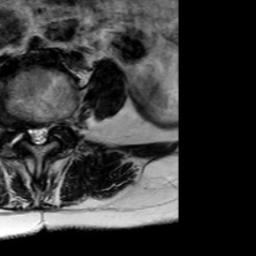CCS_severe_stenosis: (34, 115, 42, 154)
LFS_stenosis: (49, 109, 58, 136)
LLS_stenosis: (42, 114, 49, 150)
RFS_severe_stenosis: (16, 112, 26, 144)
RLS_severe_stenosis: (26, 116, 34, 149)
